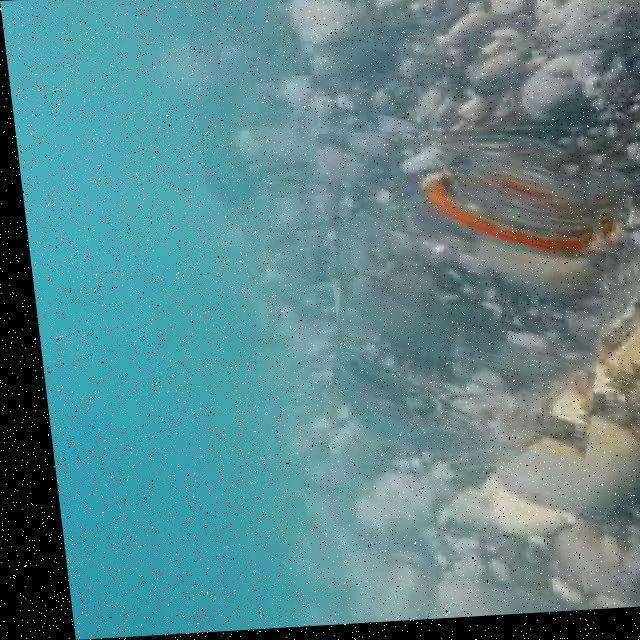litter: (311, 122, 637, 462)
